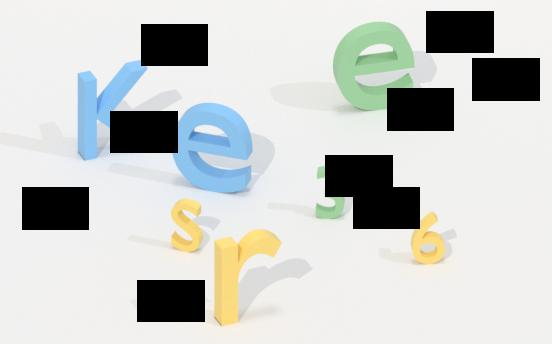3: (312, 162, 351, 222)
6: (407, 209, 449, 266)
R: (210, 231, 299, 329)
e: (166, 103, 260, 196), (329, 22, 420, 113)
k: (74, 63, 162, 161)
s: (165, 197, 208, 256)
